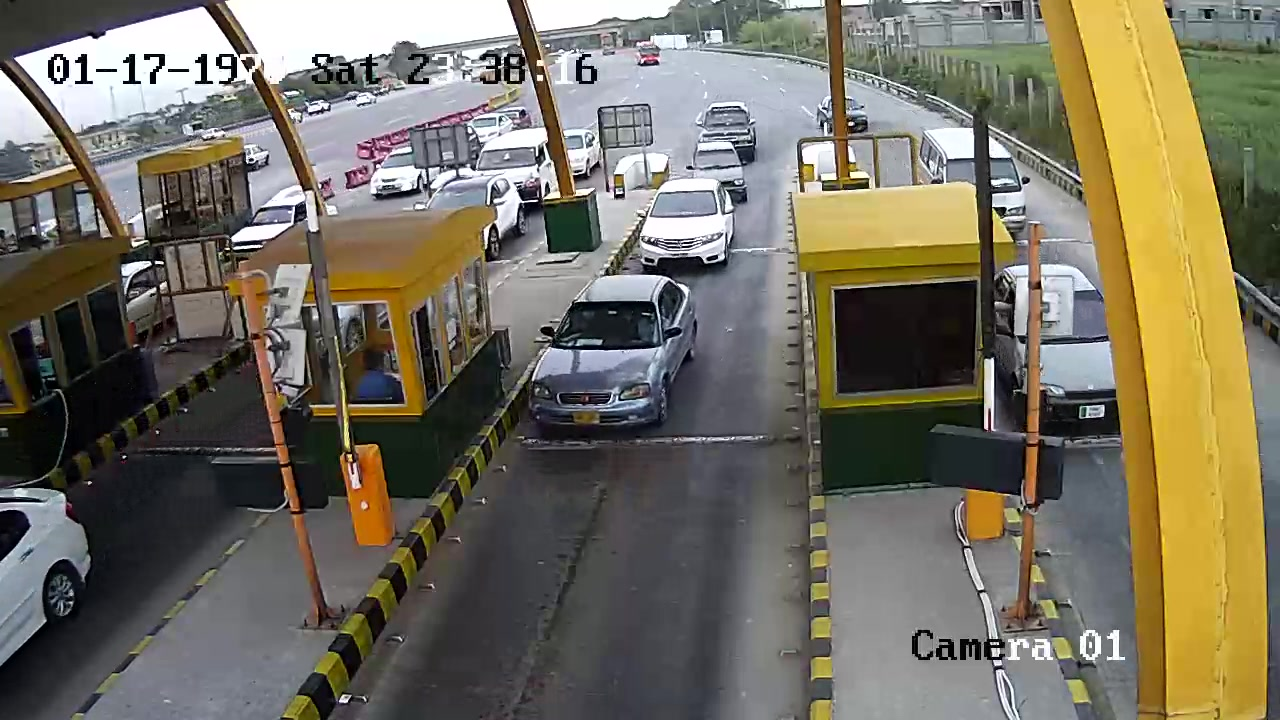F1: (524, 274, 708, 439)
